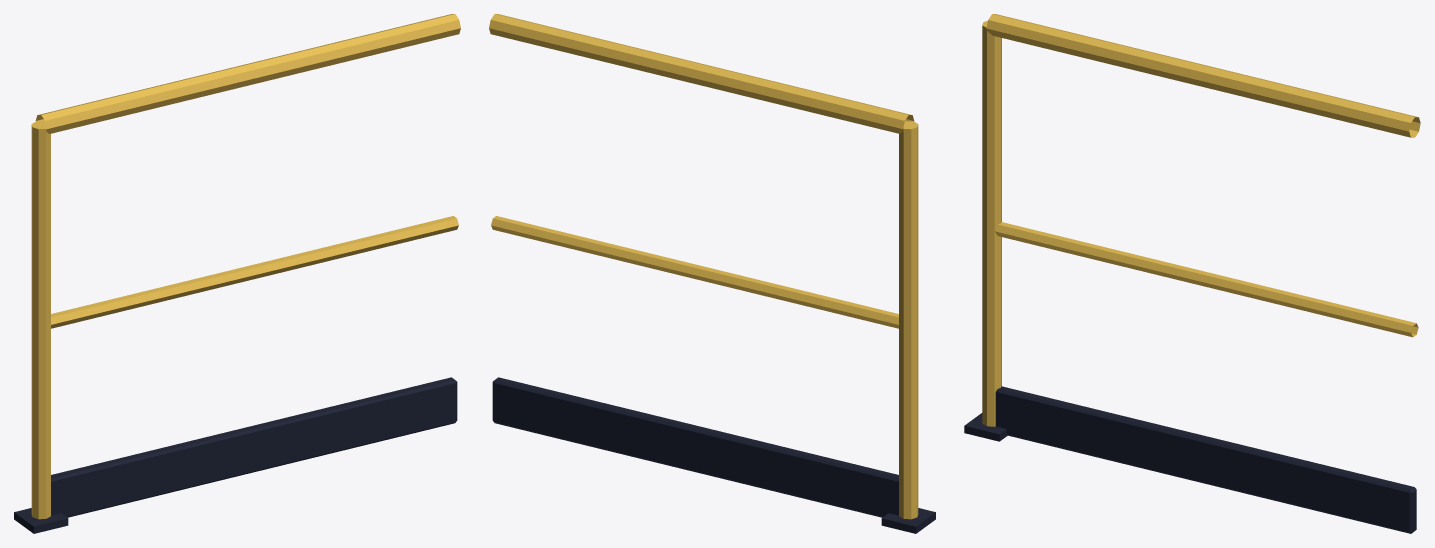
Rendered from sm_env_depot_railing_segment.glb.
The picture shows the model from 3 angles, left to right: view 1: azimuth 30°, elevation 25°; view 2: azimuth 150°, elevation 25°; view 3: azimuth 330°, elevation 25°; orthographic projection. The views are drawn at different scales.
Visible parts, largest first — view 1: ToeBoard, TopRail, Post, MidRail, PostFoot; view 2: ToeBoard, TopRail, Post, MidRail, PostFoot; view 3: ToeBoard, TopRail, Post, MidRail, PostFoot.
Part boxes in pixels (box(x1,y1,x2,y2)): ToeBoard: box(51, 377, 457, 517); TopRail: box(35, 14, 460, 133); Post: box(31, 121, 50, 519); MidRail: box(51, 216, 458, 328); PostFoot: box(14, 508, 68, 533); ToeBoard: box(492, 377, 898, 517); TopRail: box(489, 14, 914, 133); Post: box(899, 121, 918, 519); MidRail: box(491, 216, 898, 328); PostFoot: box(881, 508, 935, 533); ToeBoard: box(995, 386, 1416, 533); TopRail: box(986, 14, 1420, 137); Post: box(982, 20, 1001, 426); MidRail: box(994, 222, 1418, 337); PostFoot: box(964, 413, 1007, 441).
Bounding box in the file's own units: 1.25 × 1.13 × 0.1.
